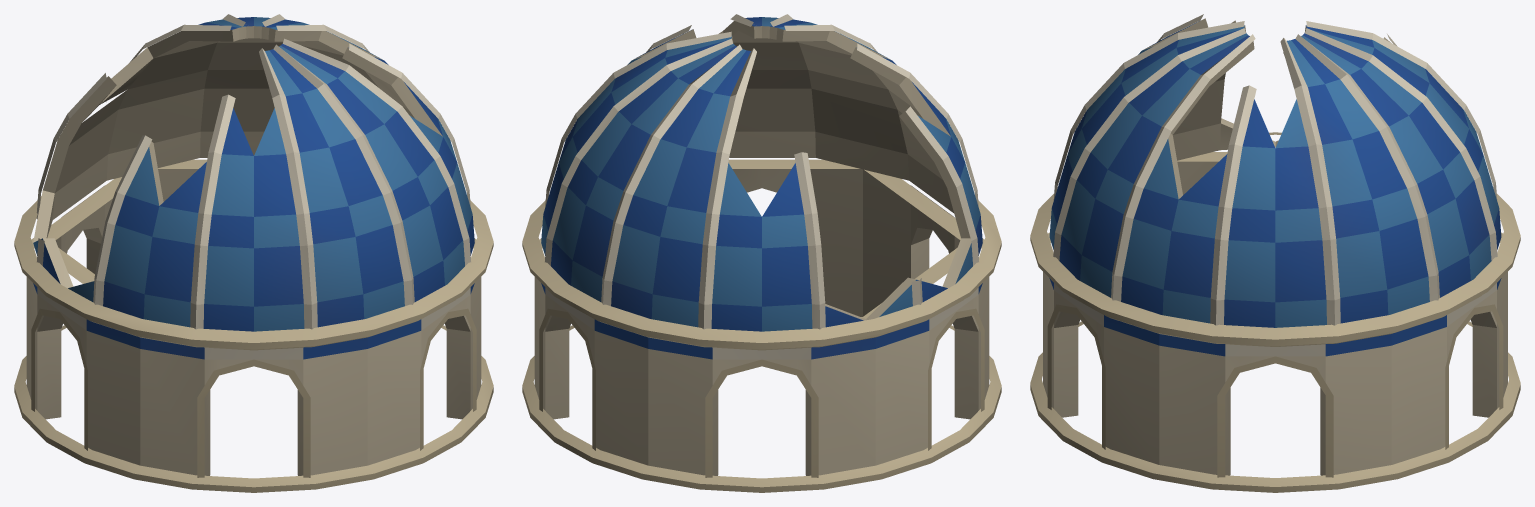
The model's file is dome.ruin_12.blue.glb.
The picture shows the model from 3 angles, left to right: view 1: azimuth 30°, elevation 25°; view 2: azimuth 150°, elevation 25°; view 3: azimuth 270°, elevation 25°; orthographic projection. The views are drawn at different scales.
Visible parts, largest first — view 1: dome_ruin_12_blue; view 2: dome_ruin_12_blue; view 3: dome_ruin_12_blue.
Part boxes in pixels (left/top/right/bottom): dome_ruin_12_blue: left=14, top=14, right=493, bottom=492; dome_ruin_12_blue: left=522, top=14, right=1001, bottom=492; dome_ruin_12_blue: left=1030, top=14, right=1520, bottom=492.
Size of what is drawn, in the model's own units: 7.6 by 6.23 by 7.6.
